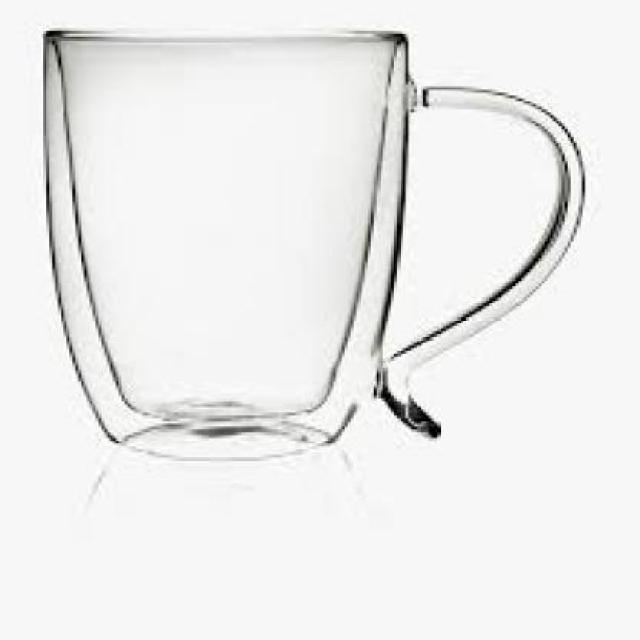kaca: (42, 27, 580, 456)
